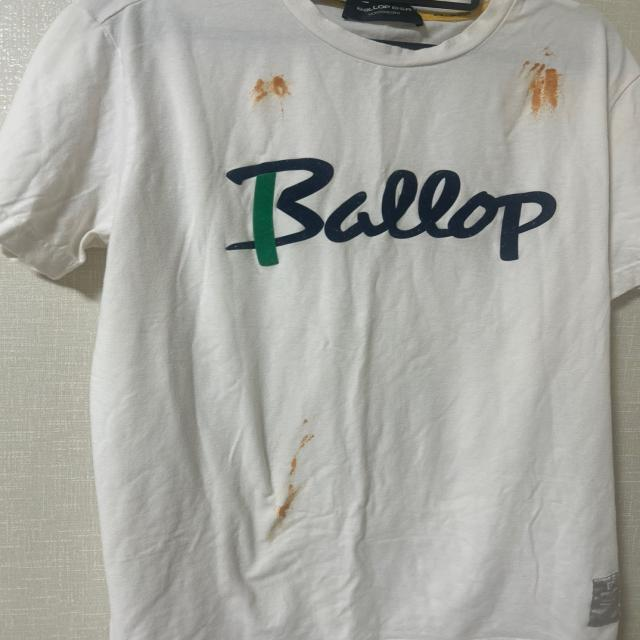stain: (277, 419, 322, 522), (521, 56, 568, 117), (253, 68, 290, 108), (533, 42, 556, 56)
